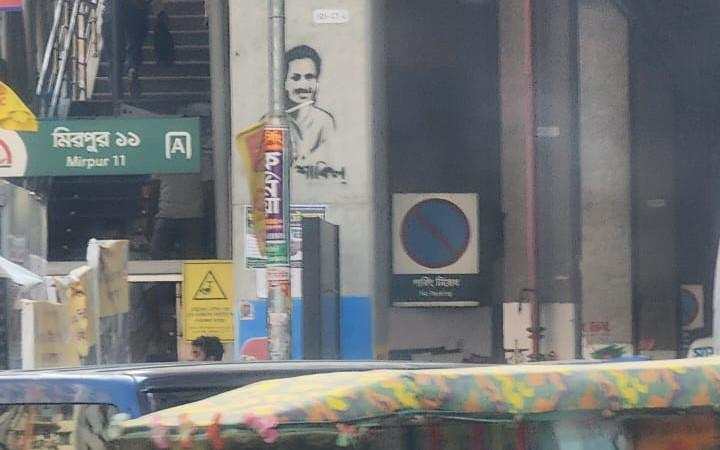No Parking: (391, 191, 481, 307)
